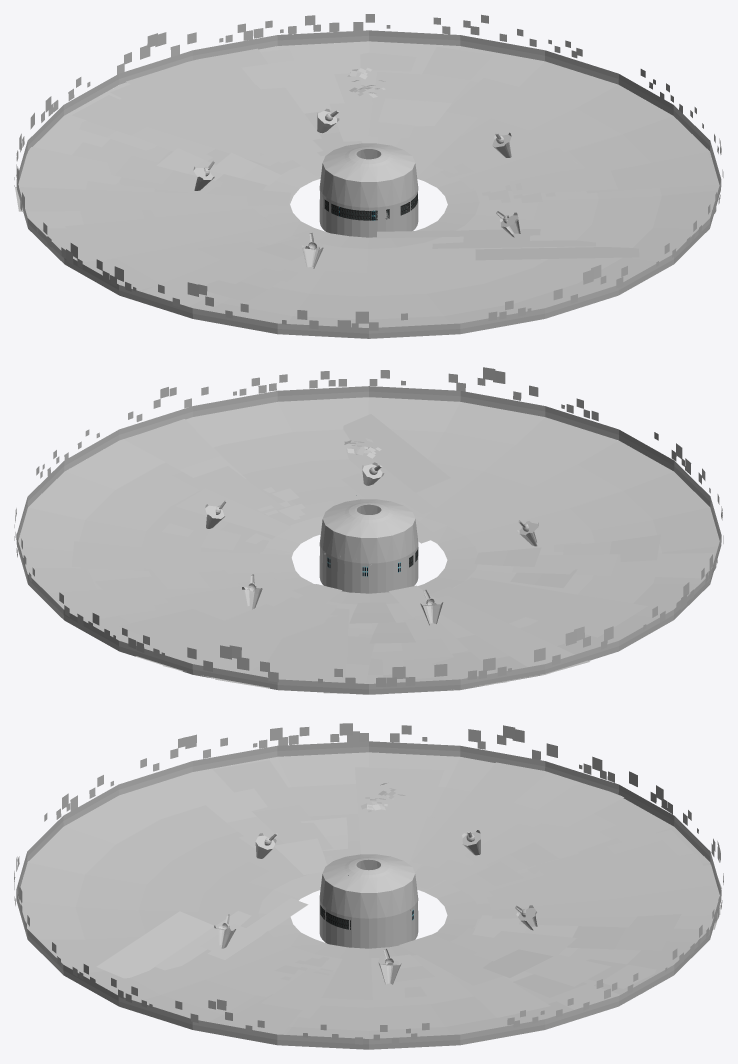
The model's file is haltmannroom2.dae.
3 views of the same model, one above another, from view 1: azimuth 30°, elevation 25°; view 2: azimuth 150°, elevation 25°; view 3: azimuth 270°, elevation 25° (orthographic).
Parts seen in each view (by area): view 1: skpEC20 (×39); view 2: skpEC20 (×37); view 3: skpEC20 (×39).
Boxes of the visible parts, <box> form: skpEC20 (×39): <box>15,30,721,338</box>; skpEC20 (×37): <box>16,386,721,694</box>; skpEC20 (×39): <box>16,741,721,1049</box>.
Size of the model in its own units: 37644 by 37609 by 8601.
16 materials, 3 textured.
